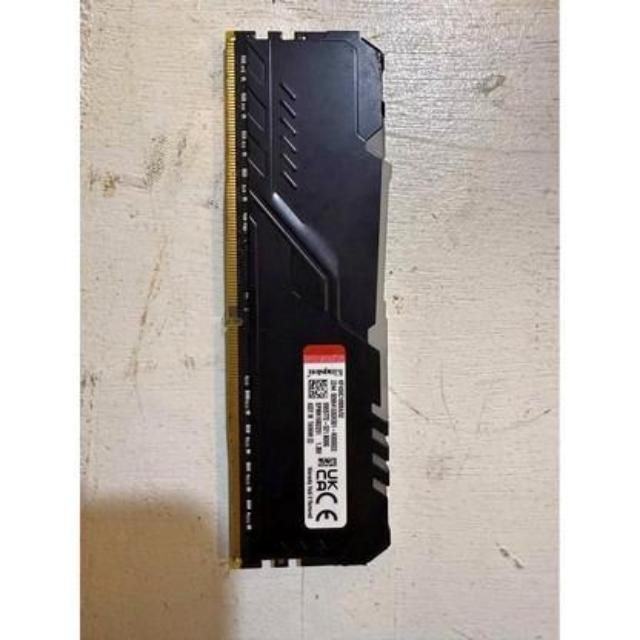RAM: (223, 23, 394, 577)
